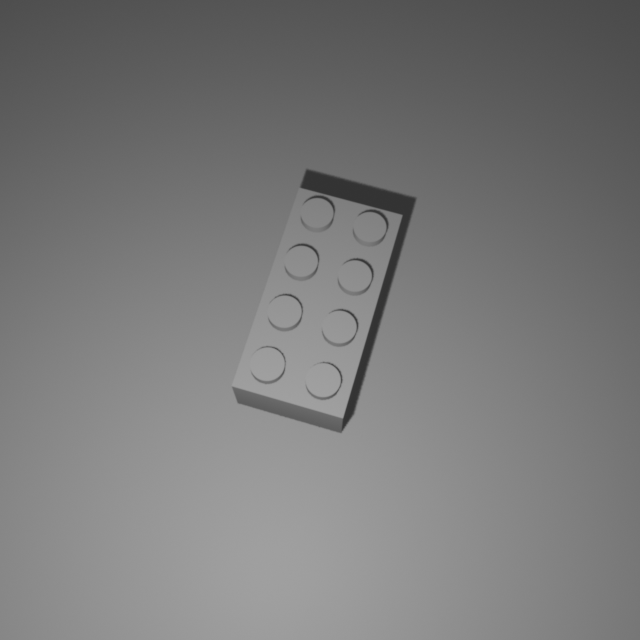lego_2x4: (230, 182, 404, 433)
